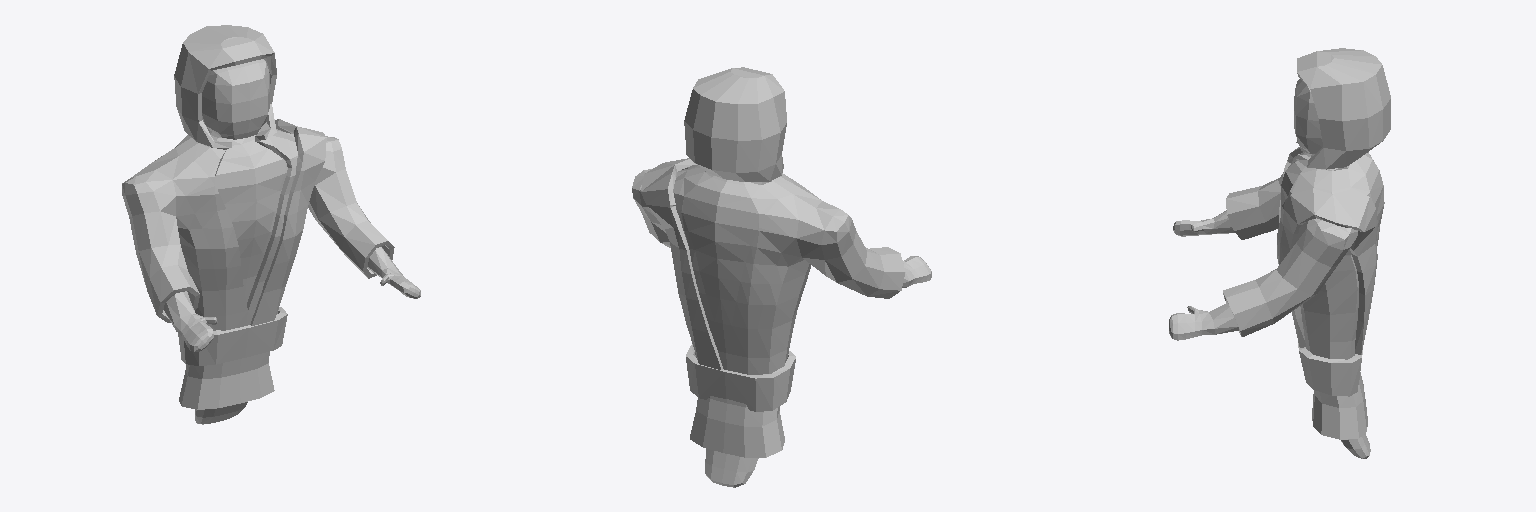
Rendered from Phantom2.obj.
3 renders of one model, left to right at view 1: azimuth 30°, elevation 25°; view 2: azimuth 150°, elevation 25°; view 3: azimuth 270°, elevation 25°, orthographic.
Visible parts, largest first — view 1: Cube.001, Cube; view 2: Cube.001, Cube; view 3: Cube.001, Cube.
Boxes of the visible parts, <box> form: Cube.001: <box>122,25,394,409</box>; Cube: <box>163,59,420,424</box>; Cube.001: <box>632,67,904,457</box>; Cube: <box>705,256,931,487</box>; Cube.001: <box>1223,48,1390,439</box>; Cube: <box>1169,79,1370,458</box>.
Size of the model in its own units: 2.97 by 4.82 by 2.45.